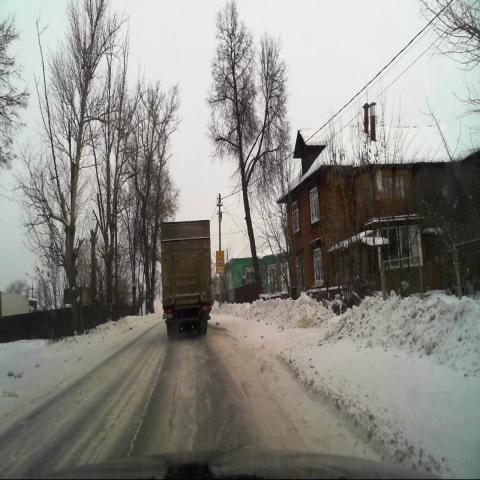1_23: (216, 250, 224, 265)
